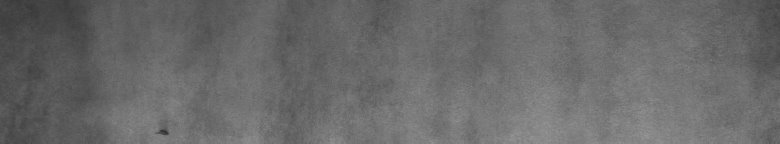fi: (155, 129, 171, 136)
